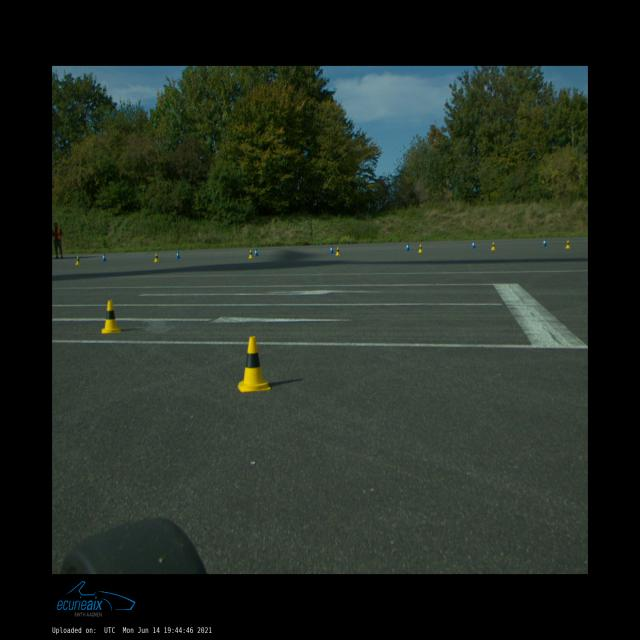blue_cone: (329, 246, 334, 253), (542, 239, 546, 247), (176, 251, 180, 259), (406, 243, 410, 250), (254, 249, 258, 256), (102, 254, 106, 261), (472, 242, 475, 248)
yellow_cone: (238, 336, 271, 392), (102, 300, 121, 334), (154, 253, 159, 262), (491, 242, 496, 250), (418, 244, 423, 252), (336, 247, 340, 256), (566, 240, 570, 248), (249, 250, 253, 258), (76, 256, 80, 264)
